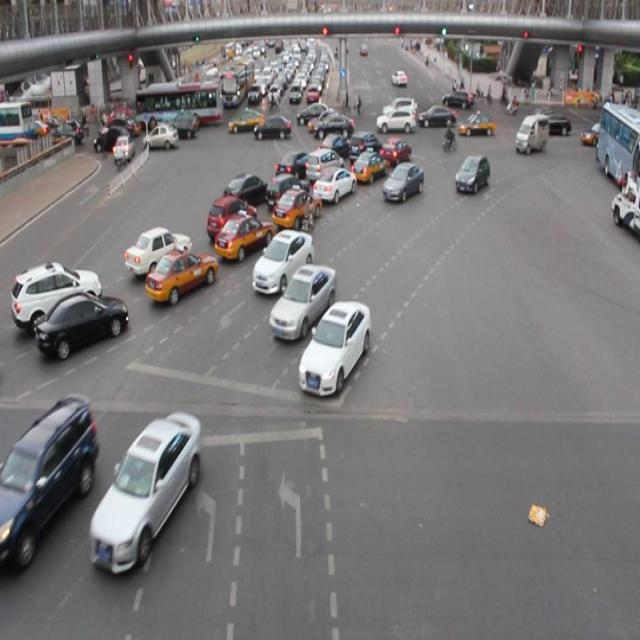car: (90, 410, 200, 573), (1, 394, 96, 562), (298, 299, 368, 398), (35, 289, 127, 358), (12, 260, 102, 328), (270, 263, 336, 340), (144, 245, 217, 300), (253, 229, 312, 292), (125, 225, 191, 274), (213, 212, 273, 261), (207, 196, 259, 241), (271, 186, 320, 230), (382, 160, 422, 200), (265, 172, 307, 210), (312, 166, 355, 203), (224, 172, 267, 208), (453, 153, 489, 194), (349, 148, 386, 185), (347, 129, 380, 163), (276, 150, 311, 182), (316, 132, 349, 162), (378, 138, 408, 170)
truck: (514, 113, 548, 154), (305, 149, 344, 184)
